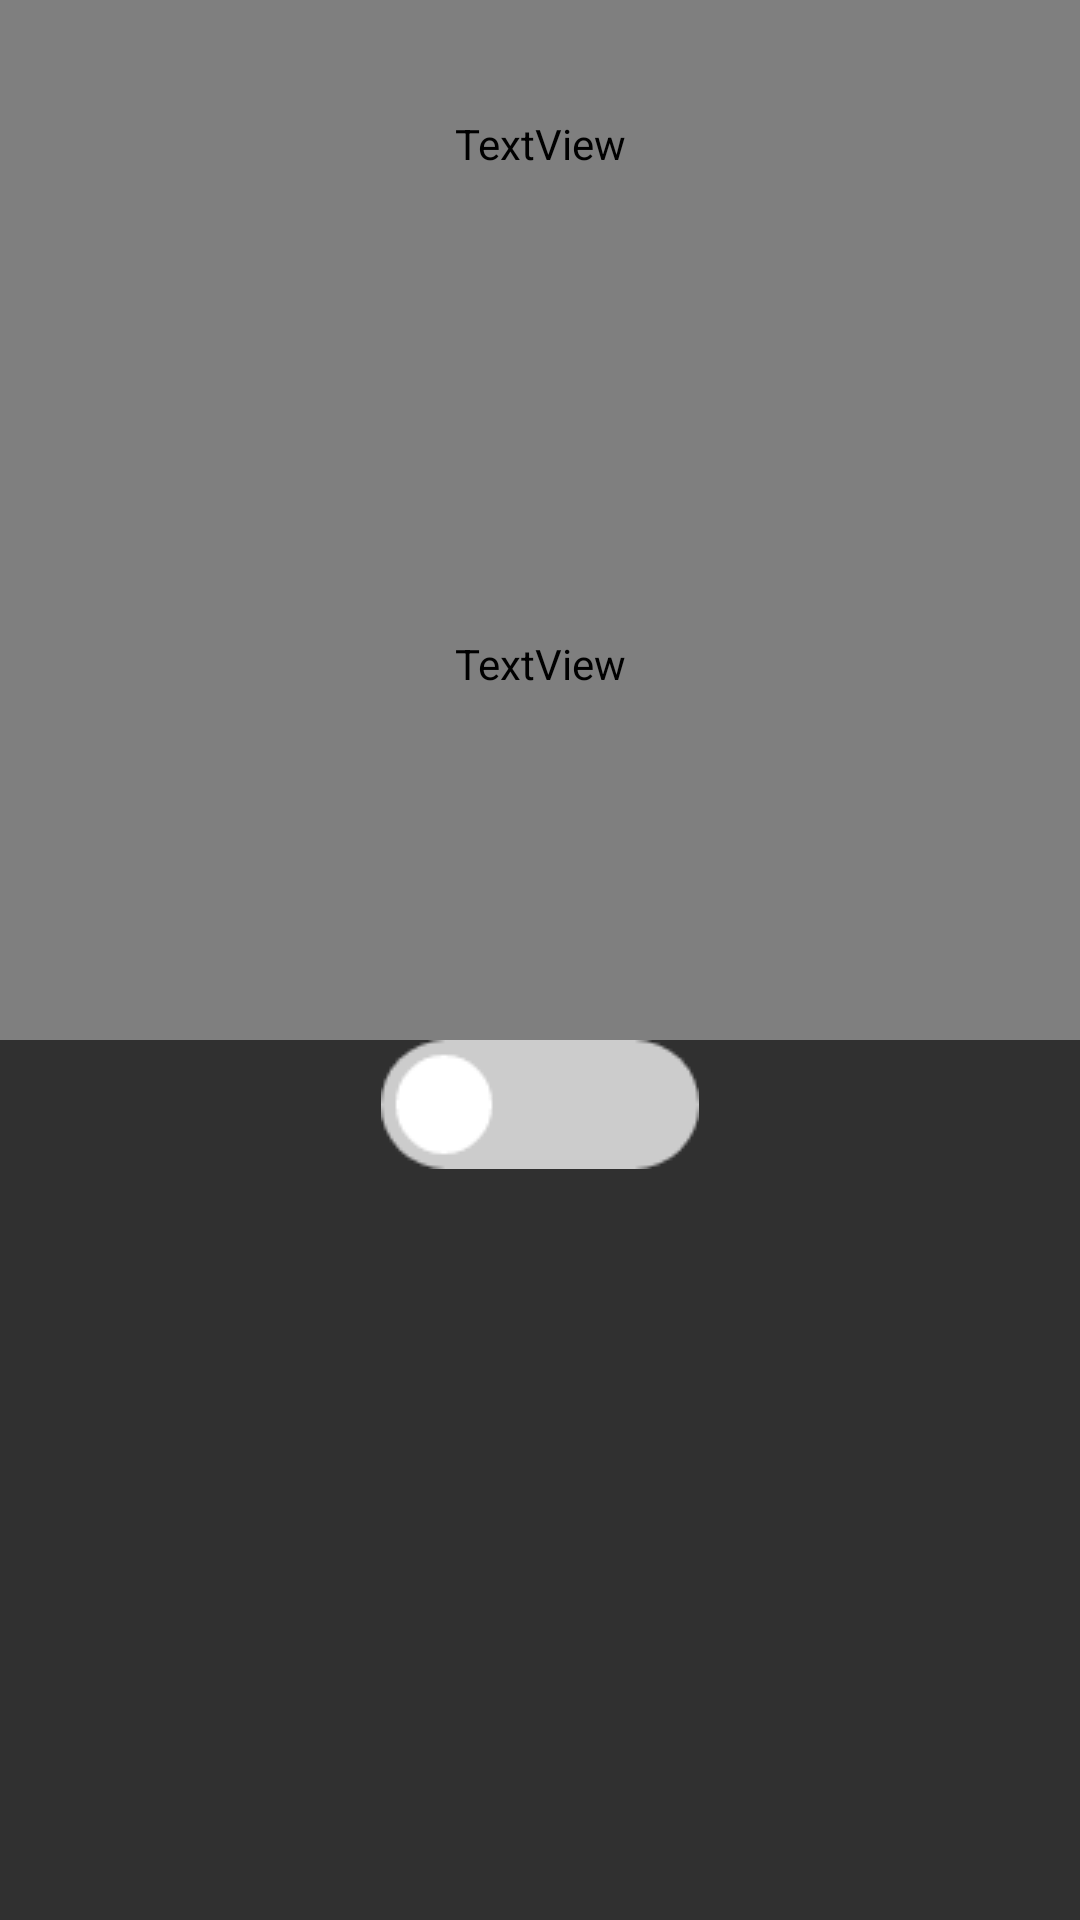

Screen size 1080px×1920px. Icon name, then its center in pixels as point (x, y):
테마버튼: point (540, 1104)
